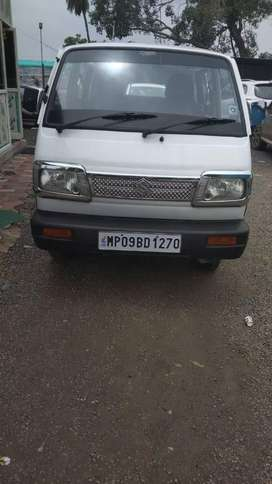MP09BD1270: (97, 230, 181, 253)
